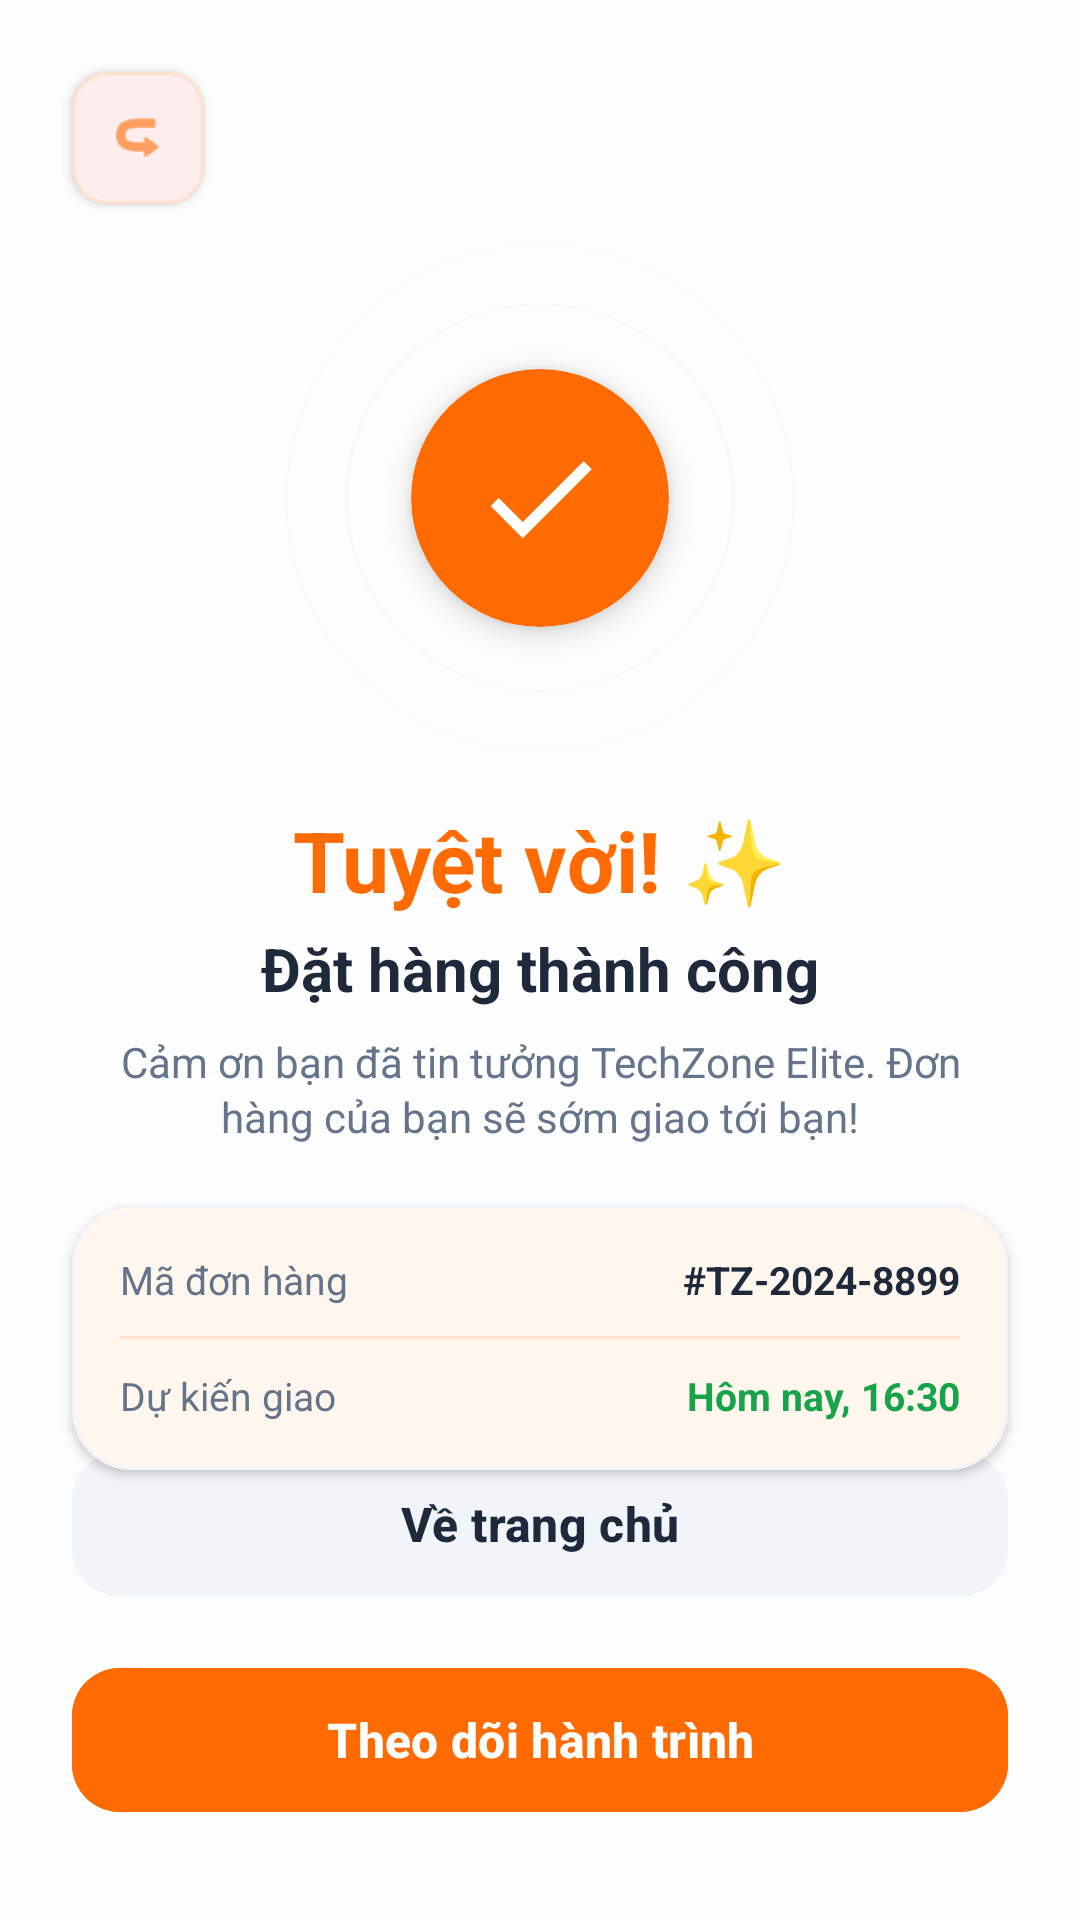

Icons on this 1080x1920 Android screen, each with its box as (x1,y1,x2,y2):
Thành công: (411,369,669,627)
